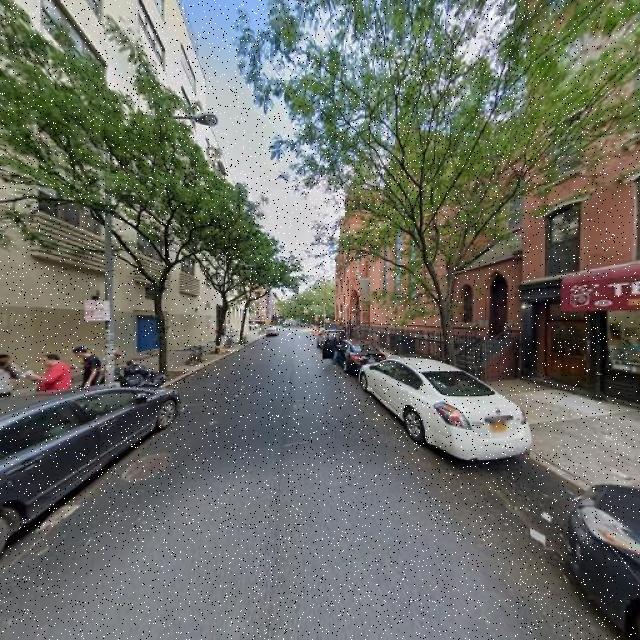Building: (1, 1, 248, 393), (527, 1, 640, 412), (413, 112, 521, 380)
